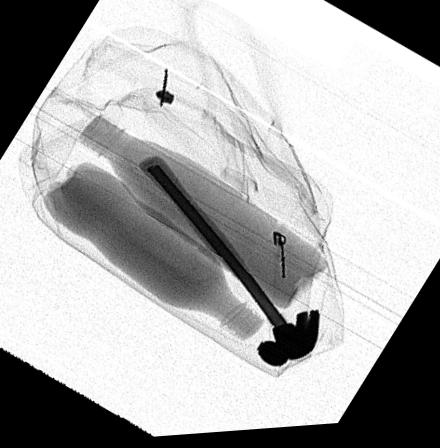Hammer: (138, 157, 319, 372)
